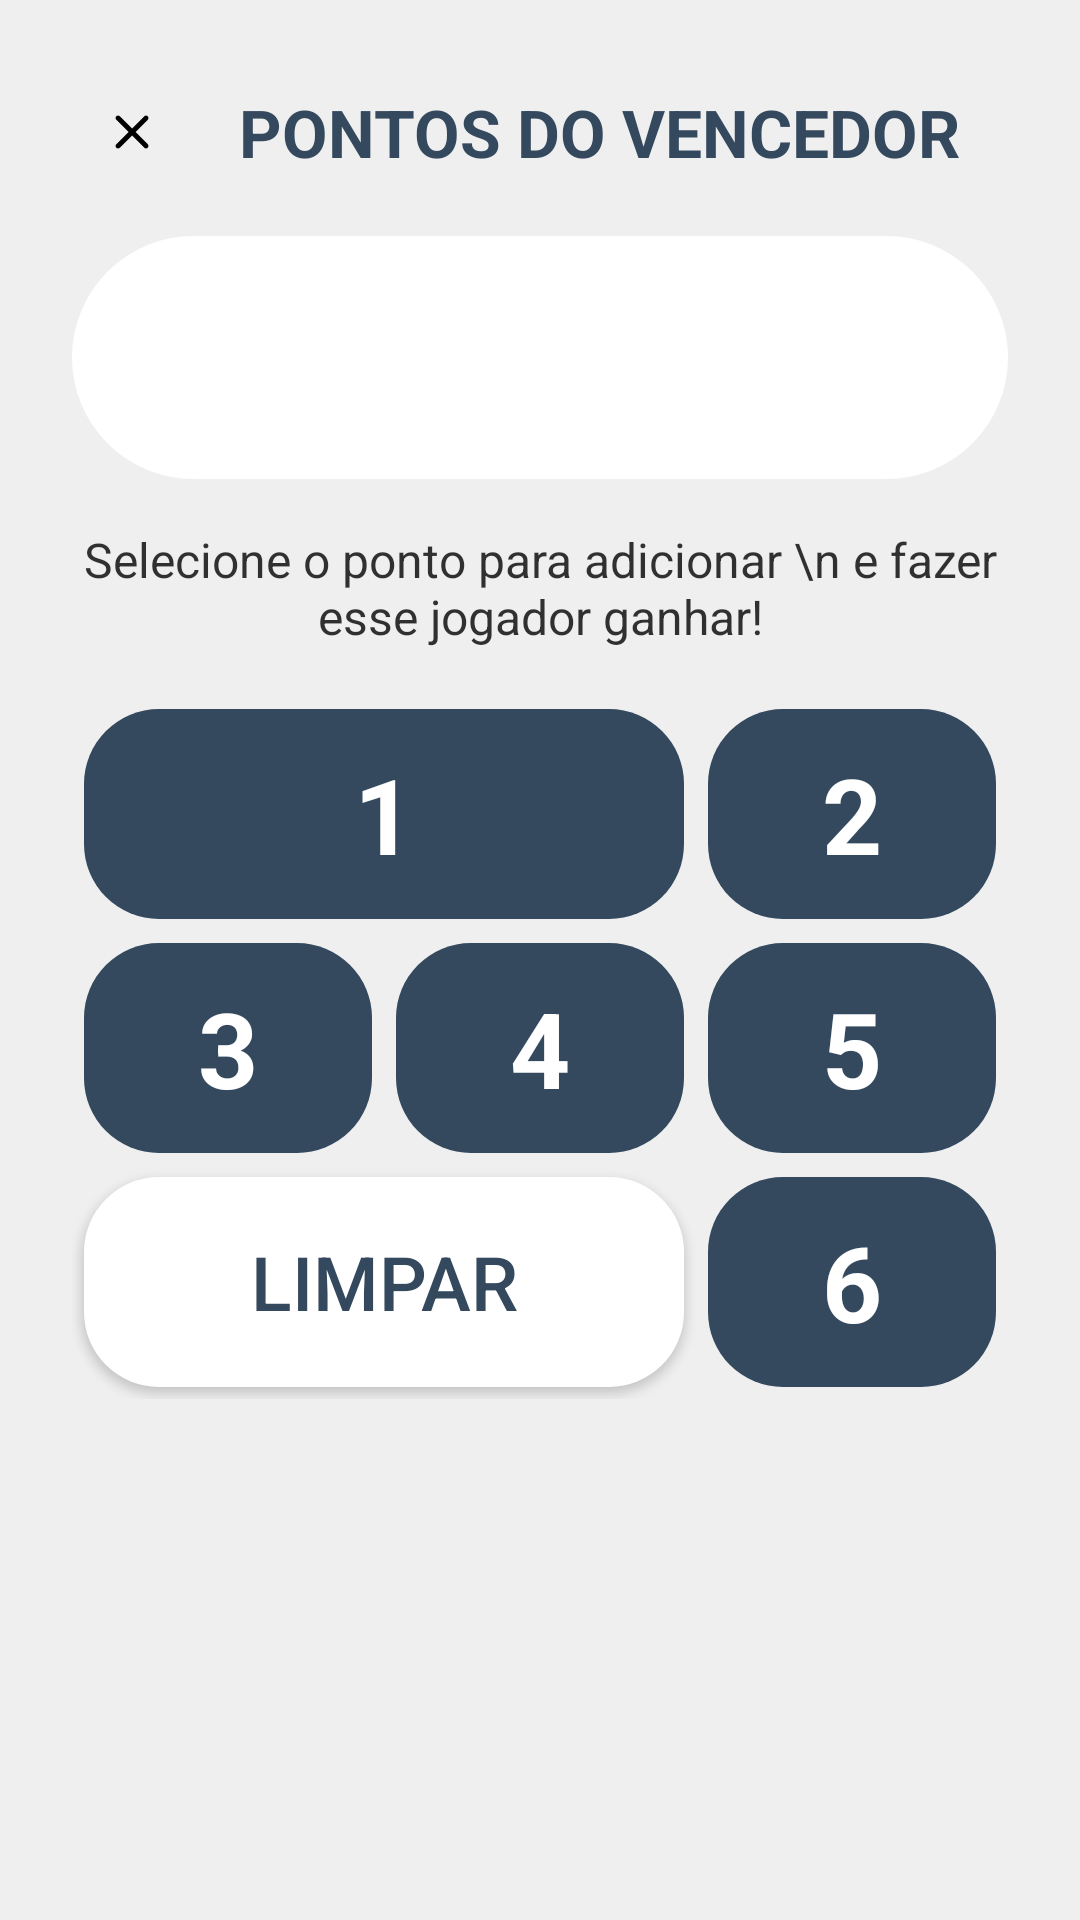

Icon bounding boxes for this 1080*1920 phone screenshot, format (x1, y1, x2, y2):
close: (115, 115, 149, 149)
